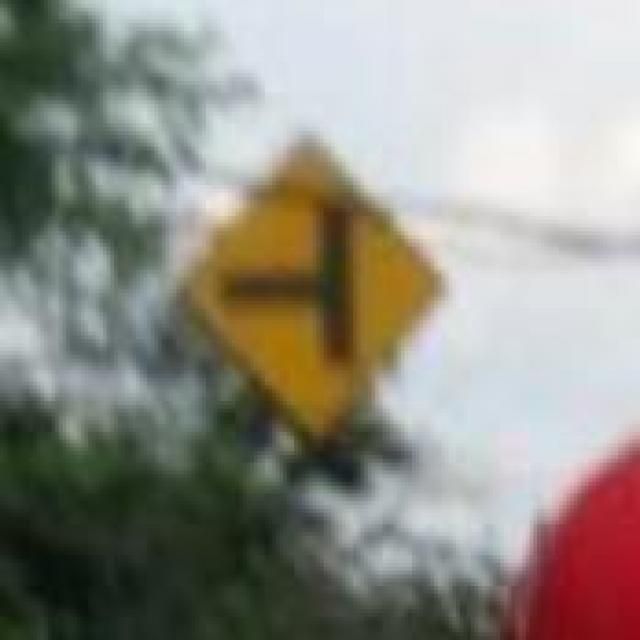traffic sign: (181, 150, 431, 428)
